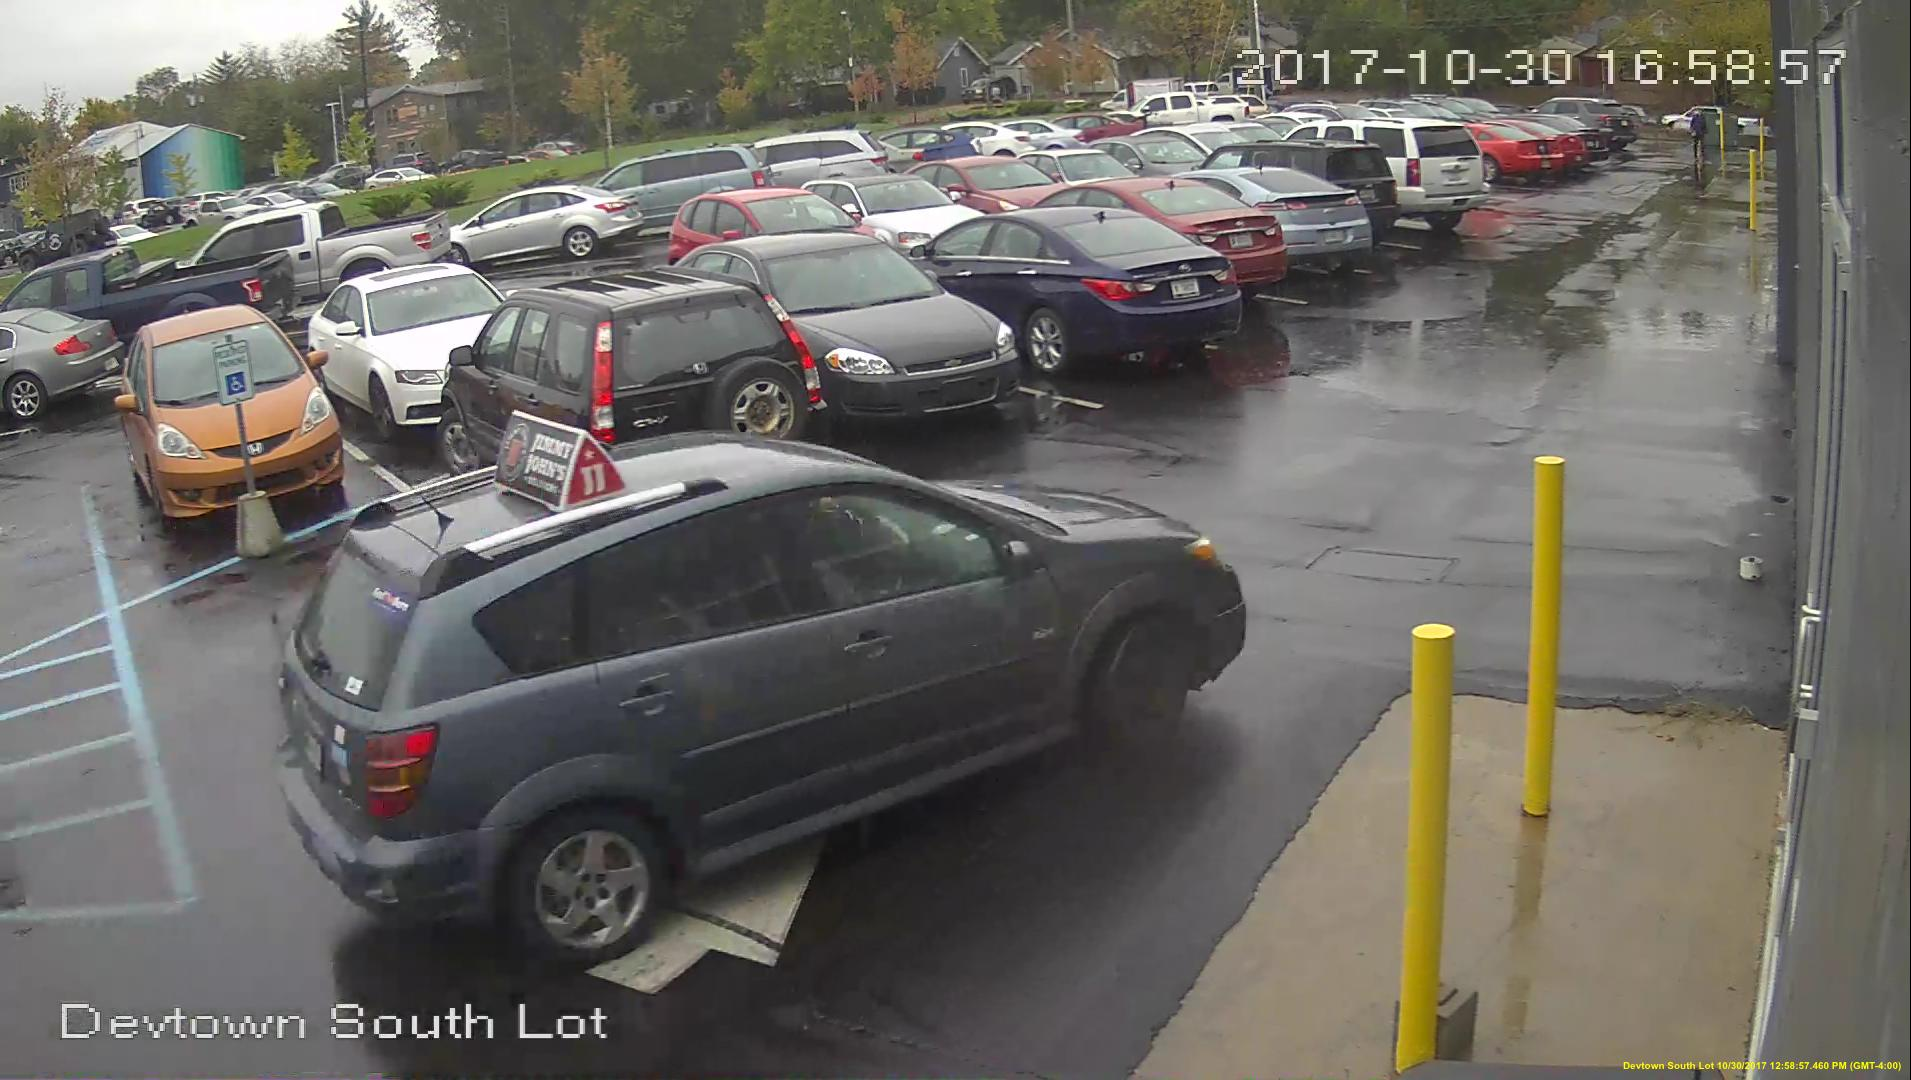jimmy_johns: (493, 405, 633, 526)
